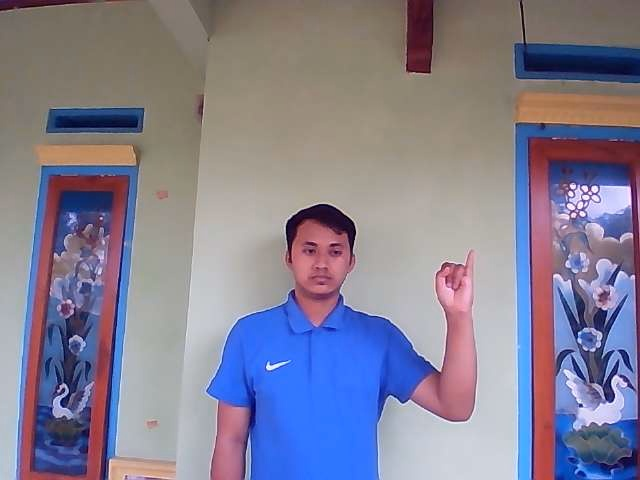I: (434, 247, 473, 307)
